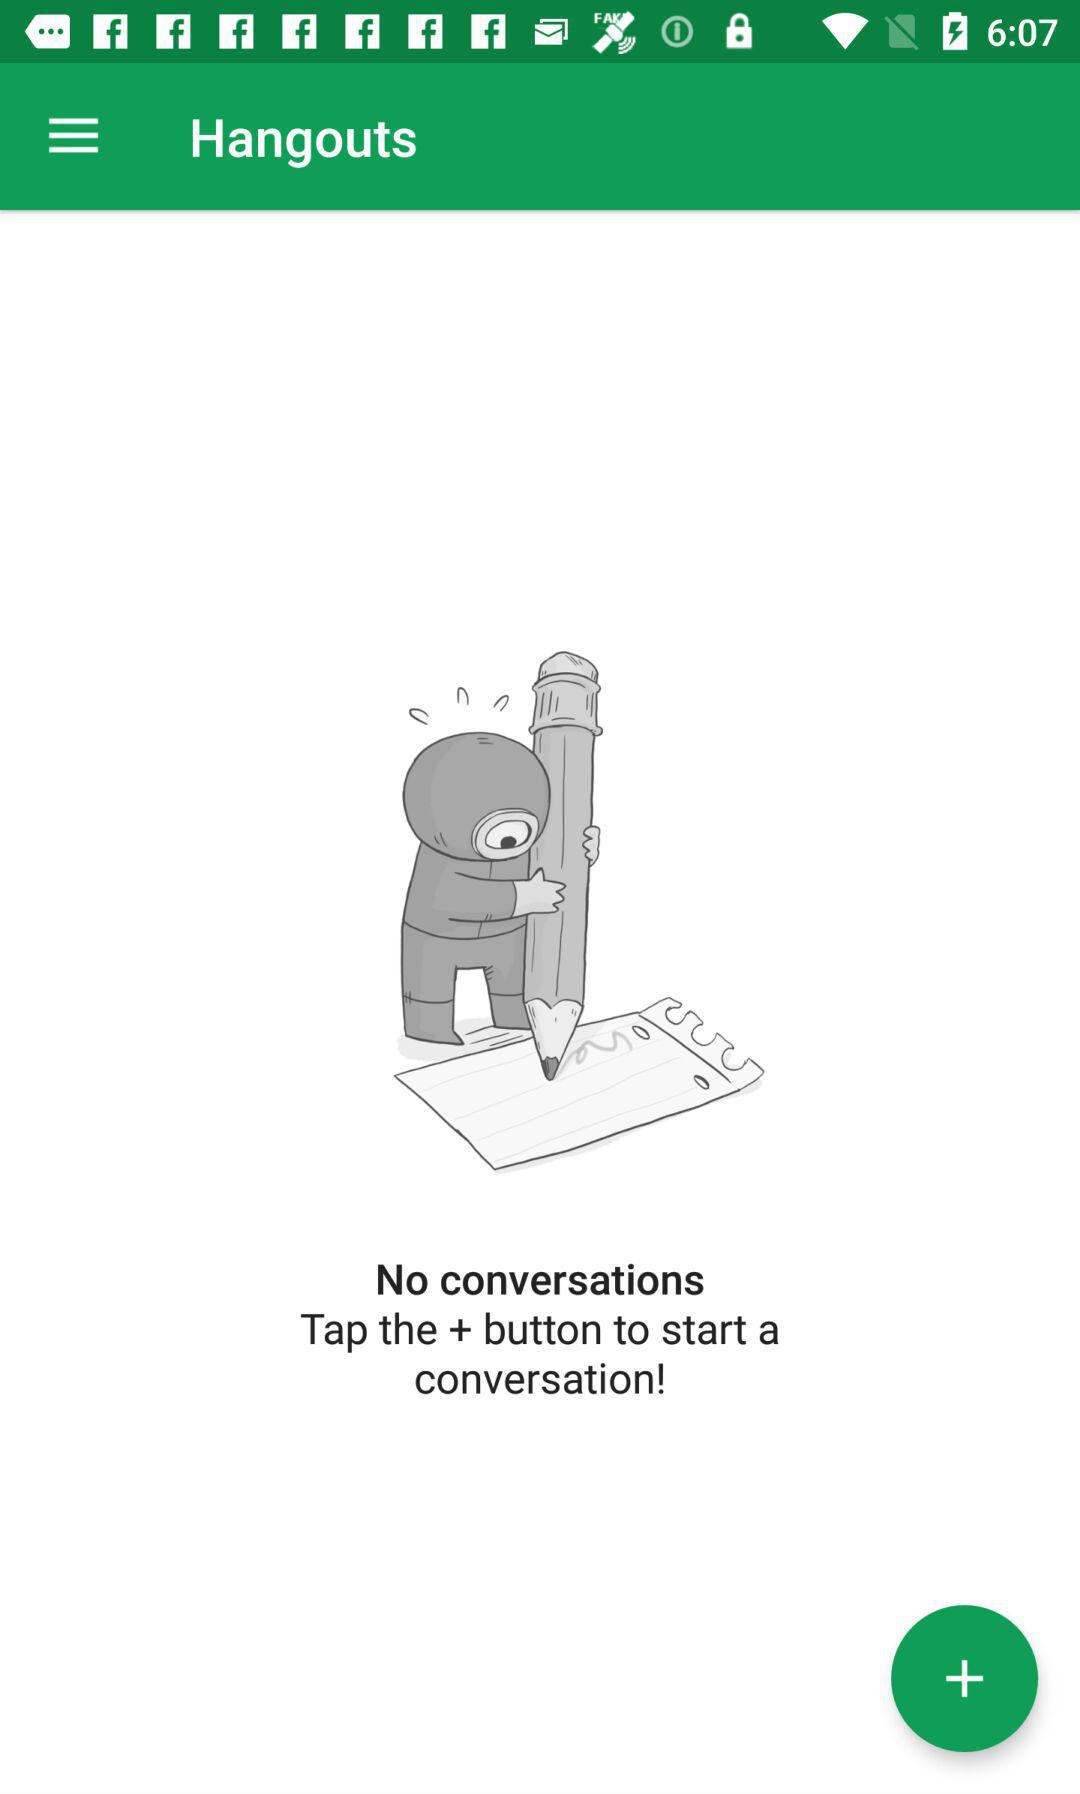Icon: (890, 1606, 1039, 1753), (47, 118, 101, 156)
Image: (393, 651, 765, 1174)
Text: (300, 1311, 780, 1397), (192, 118, 418, 170), (377, 1262, 705, 1297)
Toolbar: (1, 64, 1080, 211)
UpperTaskBar: (1, 1, 1080, 64)
